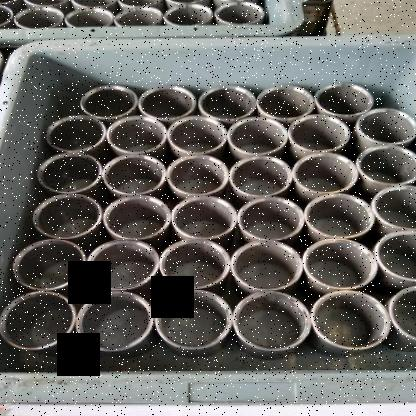pipe: (154, 288, 233, 352), (311, 289, 391, 352), (232, 291, 312, 352), (76, 290, 154, 352), (0, 290, 76, 351), (12, 238, 86, 292), (303, 238, 378, 290), (86, 238, 159, 291), (230, 239, 303, 292), (159, 238, 231, 289), (303, 192, 376, 240), (31, 192, 103, 240), (102, 195, 172, 240), (237, 196, 305, 241), (172, 195, 237, 240), (292, 152, 361, 194), (36, 152, 104, 194), (102, 153, 167, 196), (166, 154, 230, 196), (229, 156, 293, 197), (226, 116, 290, 156), (288, 114, 352, 153), (356, 144, 416, 185), (44, 114, 106, 153), (167, 115, 229, 154), (106, 115, 168, 154), (355, 107, 416, 145), (374, 230, 416, 283), (138, 84, 197, 121), (372, 184, 416, 232), (314, 82, 376, 116), (198, 86, 257, 121), (256, 86, 316, 120), (79, 85, 138, 119), (389, 285, 416, 344), (214, 1, 266, 25), (12, 6, 65, 29), (164, 3, 214, 26), (64, 6, 114, 28), (112, 6, 164, 27)
